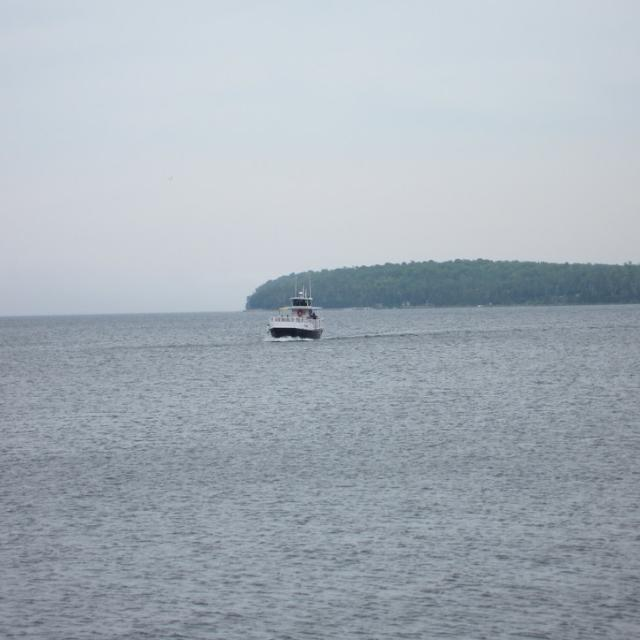houseboat: (266, 286, 330, 342)
